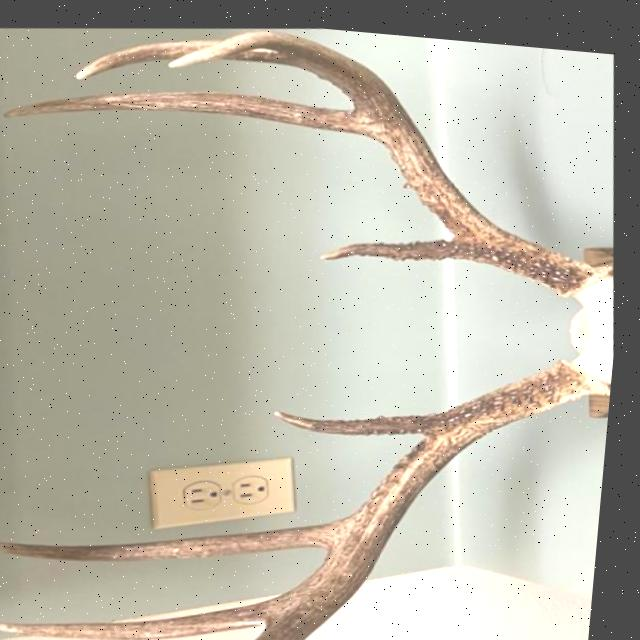L-F: (169, 24, 617, 286)
L-G1: (323, 225, 489, 253)
L-G2: (4, 85, 377, 130)
R-F: (242, 347, 615, 640)
R-G1: (280, 402, 449, 427)
R-G2: (0, 505, 360, 557)
R-G3: (0, 584, 298, 637)
